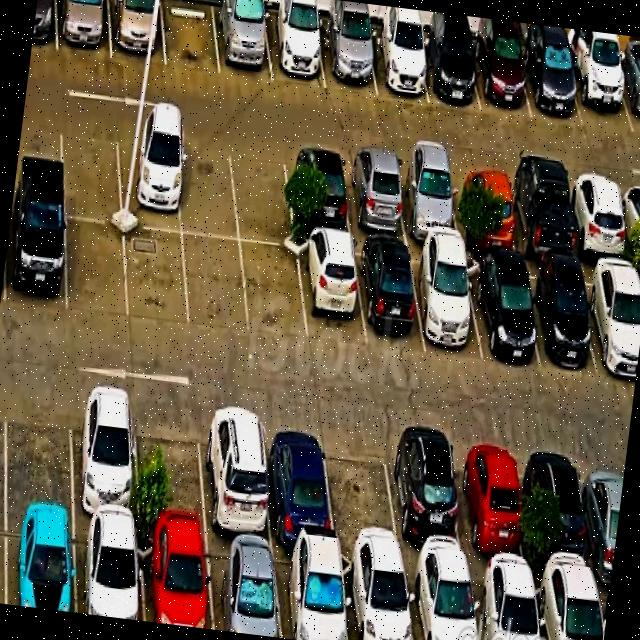empty: (324, 423, 401, 559), (135, 396, 207, 535), (5, 381, 73, 515), (229, 140, 294, 247), (182, 234, 249, 333), (240, 243, 307, 341), (125, 226, 188, 329), (176, 134, 238, 238), (60, 118, 121, 222), (66, 218, 128, 318), (161, 0, 220, 74)
occupied: (384, 430, 467, 566), (451, 435, 528, 575), (199, 405, 272, 543), (262, 413, 335, 548), (70, 386, 139, 526), (526, 443, 595, 580), (464, 257, 539, 367), (409, 248, 482, 360), (519, 262, 595, 369), (354, 241, 425, 350), (205, 538, 281, 638), (297, 235, 365, 346), (138, 529, 212, 629), (273, 546, 347, 640), (116, 126, 181, 232), (75, 520, 143, 621), (579, 264, 640, 376), (6, 514, 75, 612), (5, 205, 66, 312), (505, 171, 576, 262), (340, 553, 412, 640), (580, 449, 626, 581), (450, 165, 518, 253), (284, 147, 351, 235), (342, 153, 408, 239), (565, 49, 633, 132), (394, 158, 460, 243), (404, 564, 477, 640), (566, 177, 630, 262), (520, 40, 582, 125), (469, 568, 540, 640), (470, 35, 531, 117), (417, 33, 480, 110), (263, 10, 325, 88), (213, 2, 272, 82), (366, 27, 428, 102), (533, 575, 603, 640), (318, 21, 376, 93), (108, 0, 165, 64), (56, 0, 111, 58), (612, 54, 640, 133), (618, 181, 640, 261)
